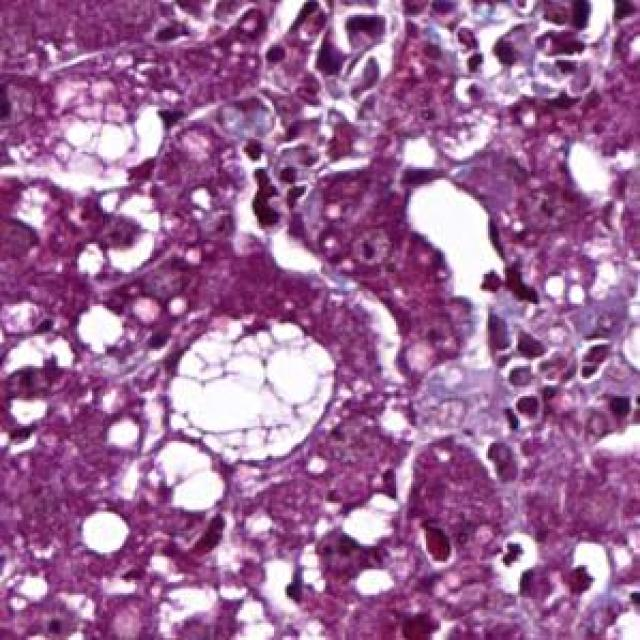ballooning: (165, 315, 340, 471)
